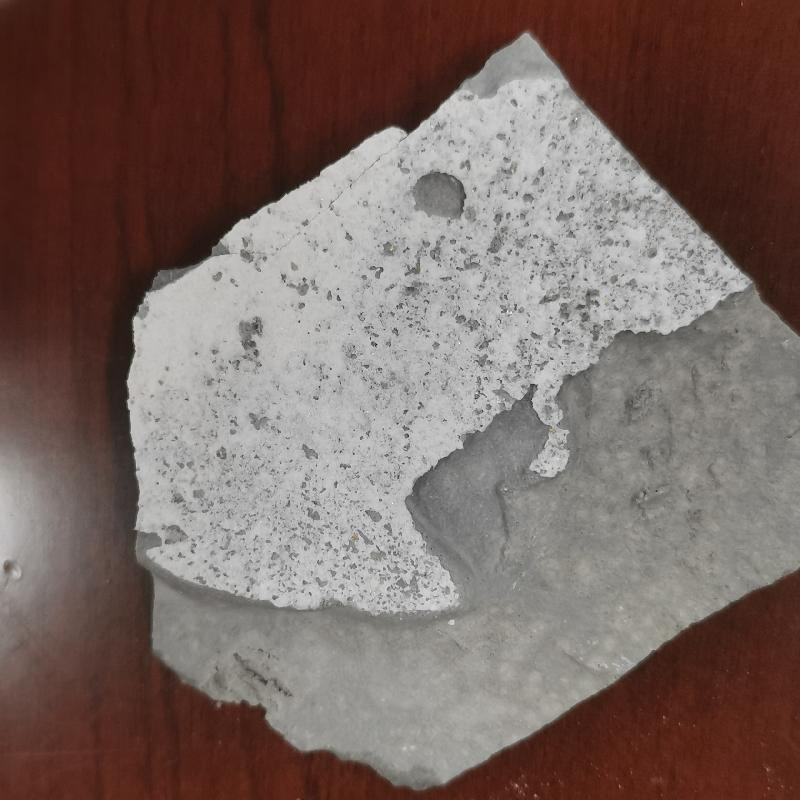tile: (119, 29, 800, 799)
